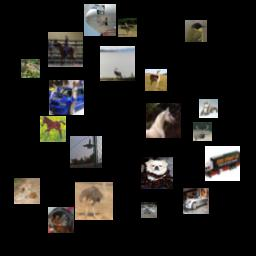airplane: (70, 136, 102, 168), (84, 4, 116, 36), (141, 202, 157, 218)
automobile: (49, 80, 84, 115), (183, 188, 209, 214)
bird: (75, 182, 113, 220), (185, 20, 207, 42), (118, 18, 137, 37)
cat: (199, 99, 218, 118)
deer: (100, 46, 135, 81), (145, 69, 167, 91), (193, 122, 212, 141)
dog: (141, 157, 173, 189), (14, 178, 40, 204), (48, 207, 74, 233)
frog: (21, 59, 40, 78)
truck: (205, 146, 240, 181)
